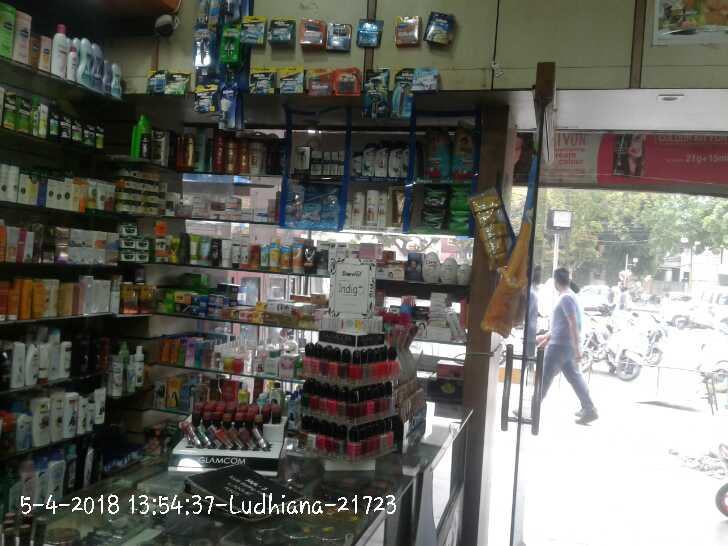gillete: (364, 66, 390, 120), (392, 65, 417, 121), (219, 83, 243, 128), (423, 13, 455, 43), (195, 16, 213, 66), (268, 15, 296, 44), (394, 16, 420, 46), (336, 67, 362, 97), (279, 65, 304, 96), (306, 69, 332, 98), (299, 16, 322, 47), (250, 66, 273, 97), (195, 82, 218, 112), (358, 20, 384, 46), (223, 22, 238, 63), (328, 24, 350, 51), (166, 70, 188, 97), (243, 16, 263, 45), (147, 69, 163, 93)
